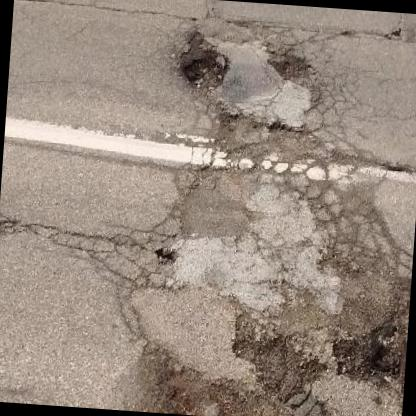pothole: (228, 329, 317, 404), (327, 317, 405, 384), (178, 34, 233, 92), (267, 48, 312, 85), (152, 243, 177, 267)
